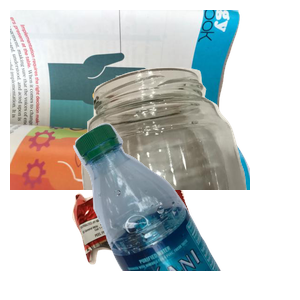glass: (74, 65, 300, 245)
paper: (10, 10, 250, 190)
plastic: (71, 120, 300, 300)
trash: (70, 162, 257, 300)
